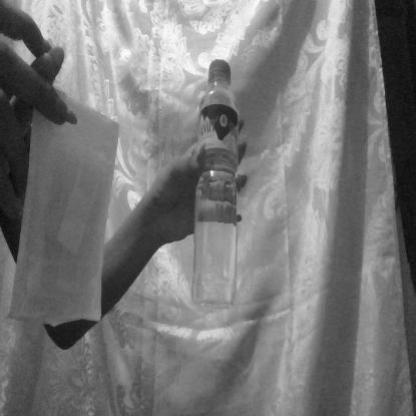Plastic Bottle: (180, 36, 262, 349)
